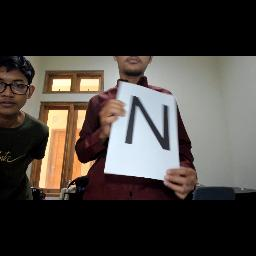n: (122, 92, 174, 154)
